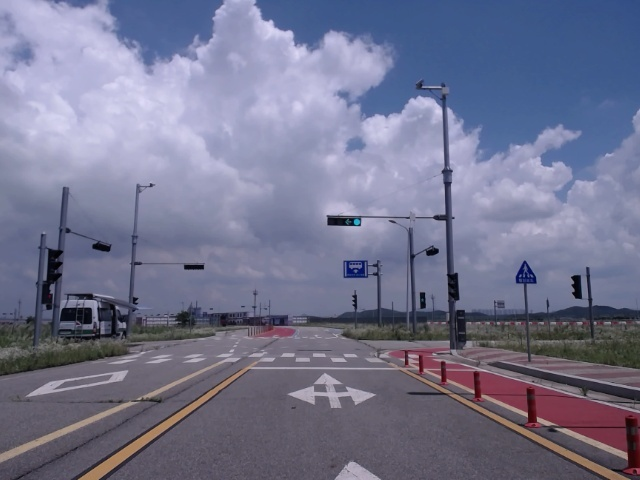all_green_4: (328, 215, 359, 225)
